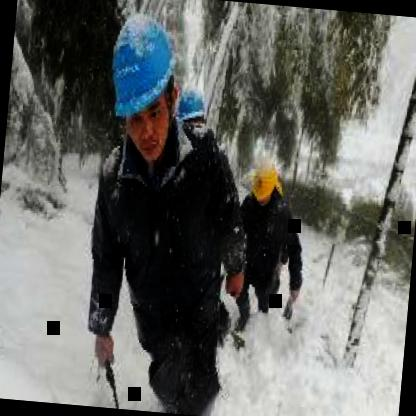helmet: (96, 0, 184, 170), (176, 84, 211, 146), (250, 150, 284, 208)
